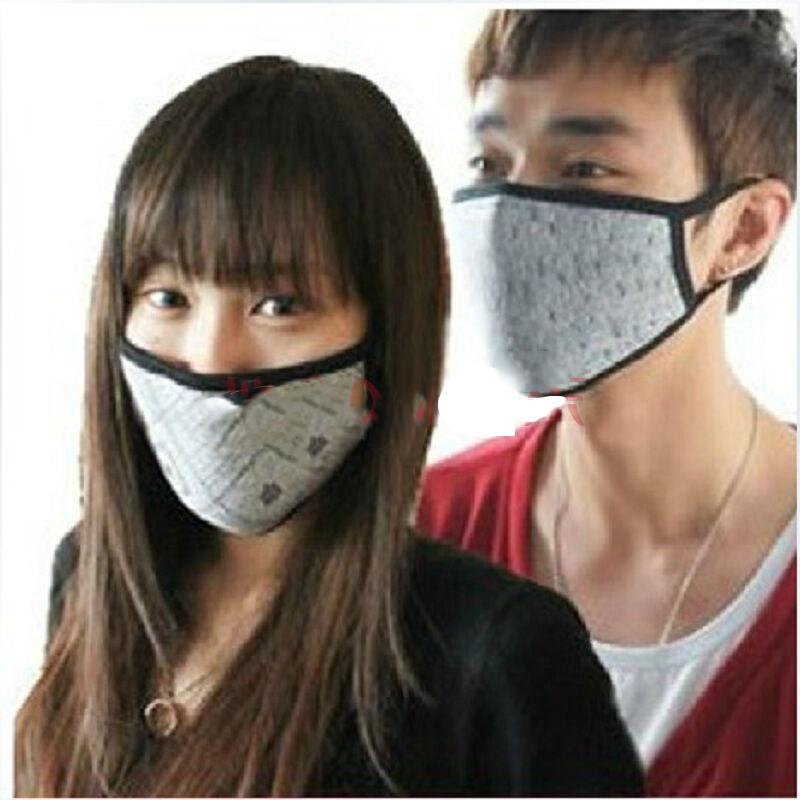OK: (445, 102, 726, 383)
WRONG: (116, 245, 395, 524)
